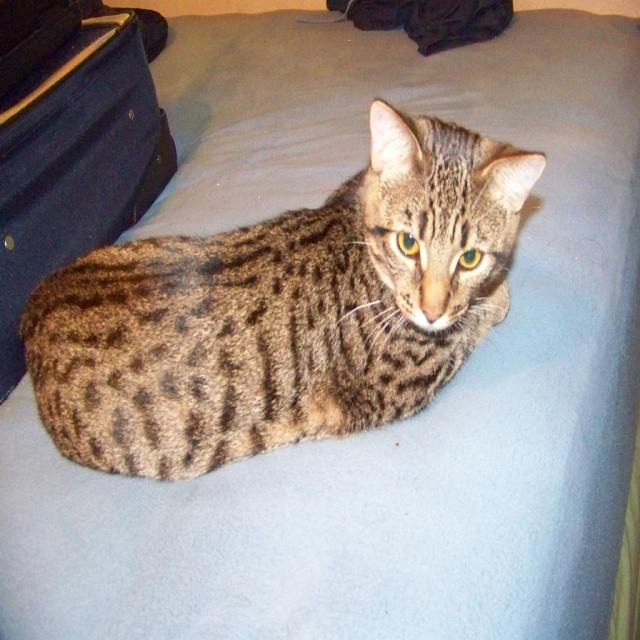Cat: (16, 97, 546, 481)
